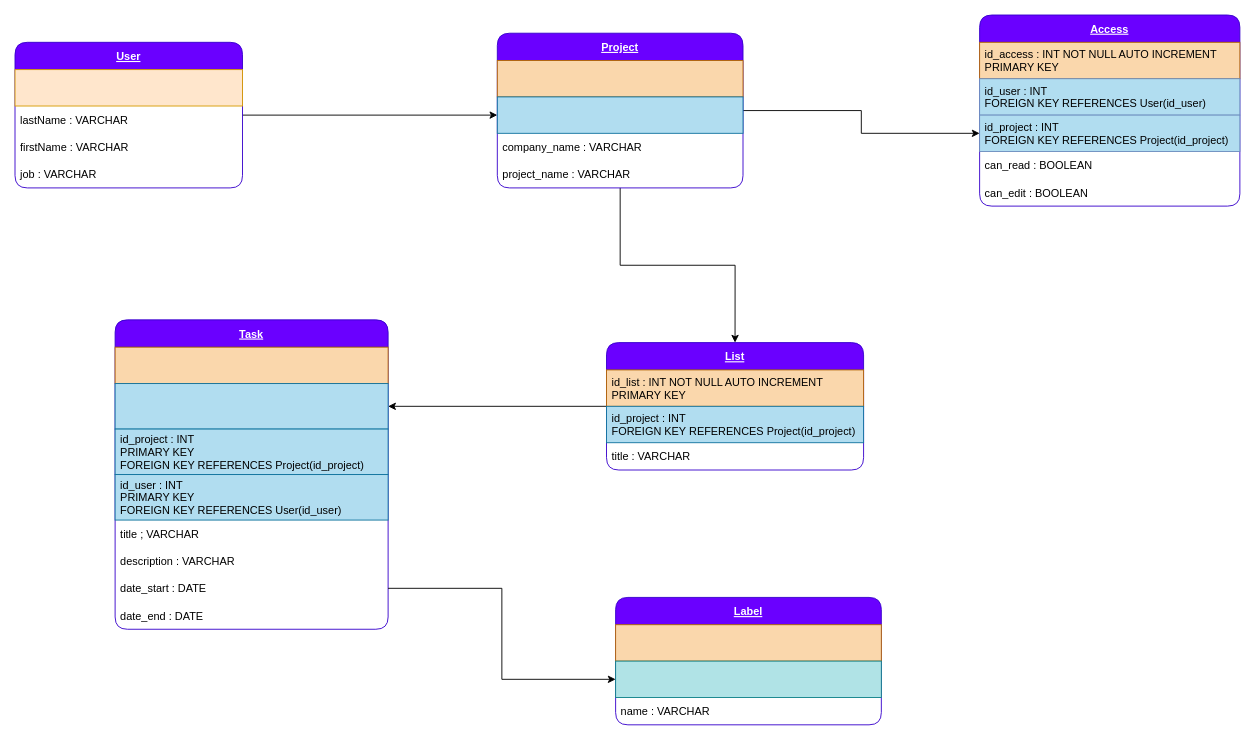
The diagram is 1255 pixels wide and 740 high, and some of its shapes have lost their labels. The box of each missing label's shape, as (x1, y1, x2, y2) in pixels:
id_creator : INT FOREIGN KEY REFERENCES User(id_user): (496, 96, 743, 133)
id_label : INT NOT NULL AUTO INCREMENT PRIMARY KEY: (615, 624, 881, 661)
id_list : INT PRIMARY KEY FOREIGN KEY REFERECES List(id_list): (114, 383, 388, 429)
id_project : INT NOT NULL AUTO INCREMENT PRIMARY KEY: (496, 60, 743, 97)
id_task : INT FOREIGN KEY REFERENCES Task(id_task): (615, 660, 881, 698)
id_task : INT NOT NULL AUTO INCREMENT PRIMARY KEY: (114, 346, 388, 384)
id_user : INT NOT NULL AUTO INCREMENT PRIMARY KEY: (14, 69, 243, 106)
